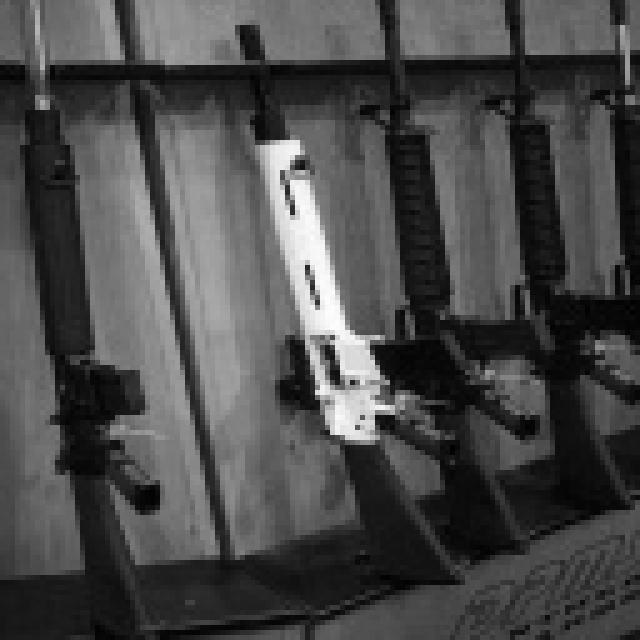Rifle: (200, 0, 450, 625), (0, 0, 230, 640), (340, 0, 540, 590), (465, 0, 619, 613), (587, 0, 640, 396)
